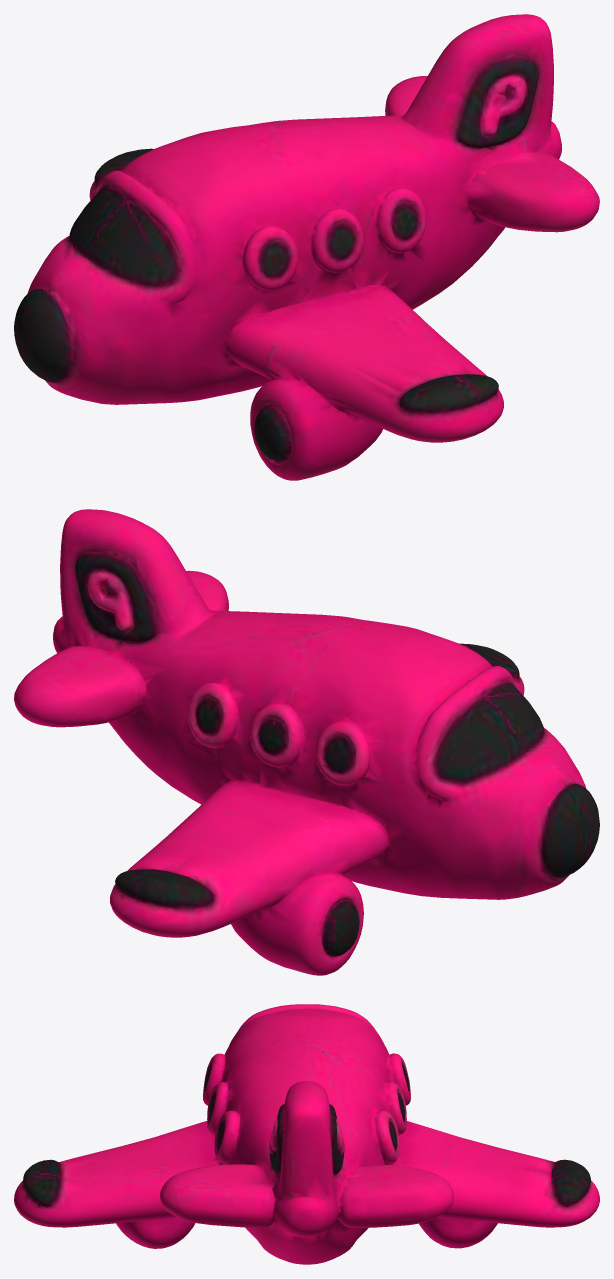
The model's file is poplur_airplane_lite.glb.
3 views of the same model, one above another, from view 1: azimuth 30°, elevation 25°; view 2: azimuth 150°, elevation 25°; view 3: azimuth 270°, elevation 25° (orthographic). The views are drawn at different scales.
Size of the model in its own units: 1.69 by 0.9517 by 1.9.
1 material, 1 textured.
